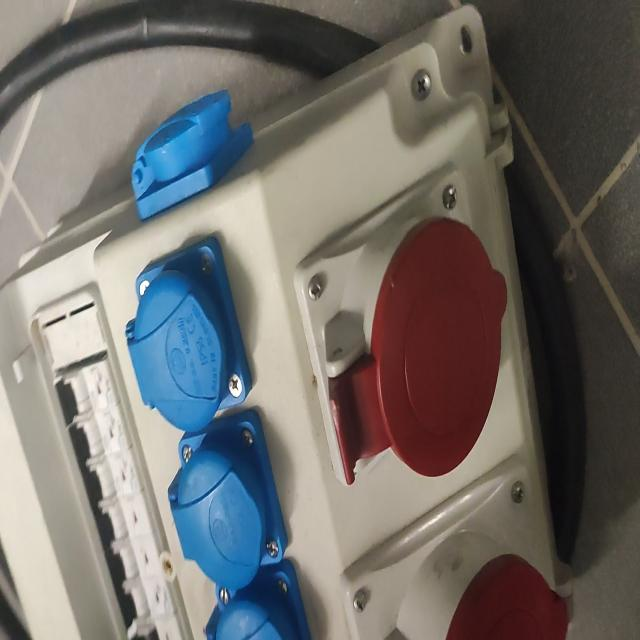400v socket: (292, 163, 507, 488)
house plug covered: (123, 238, 254, 429), (168, 407, 290, 588), (131, 92, 257, 218)
